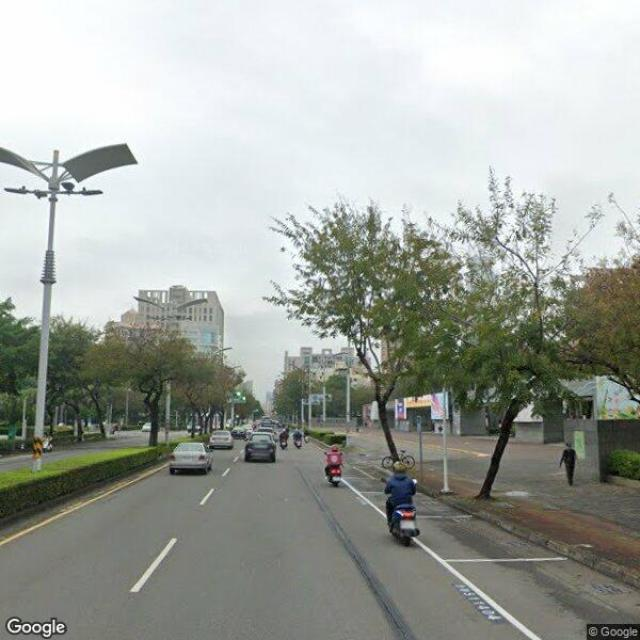illegalparking: (246, 428, 282, 471)
